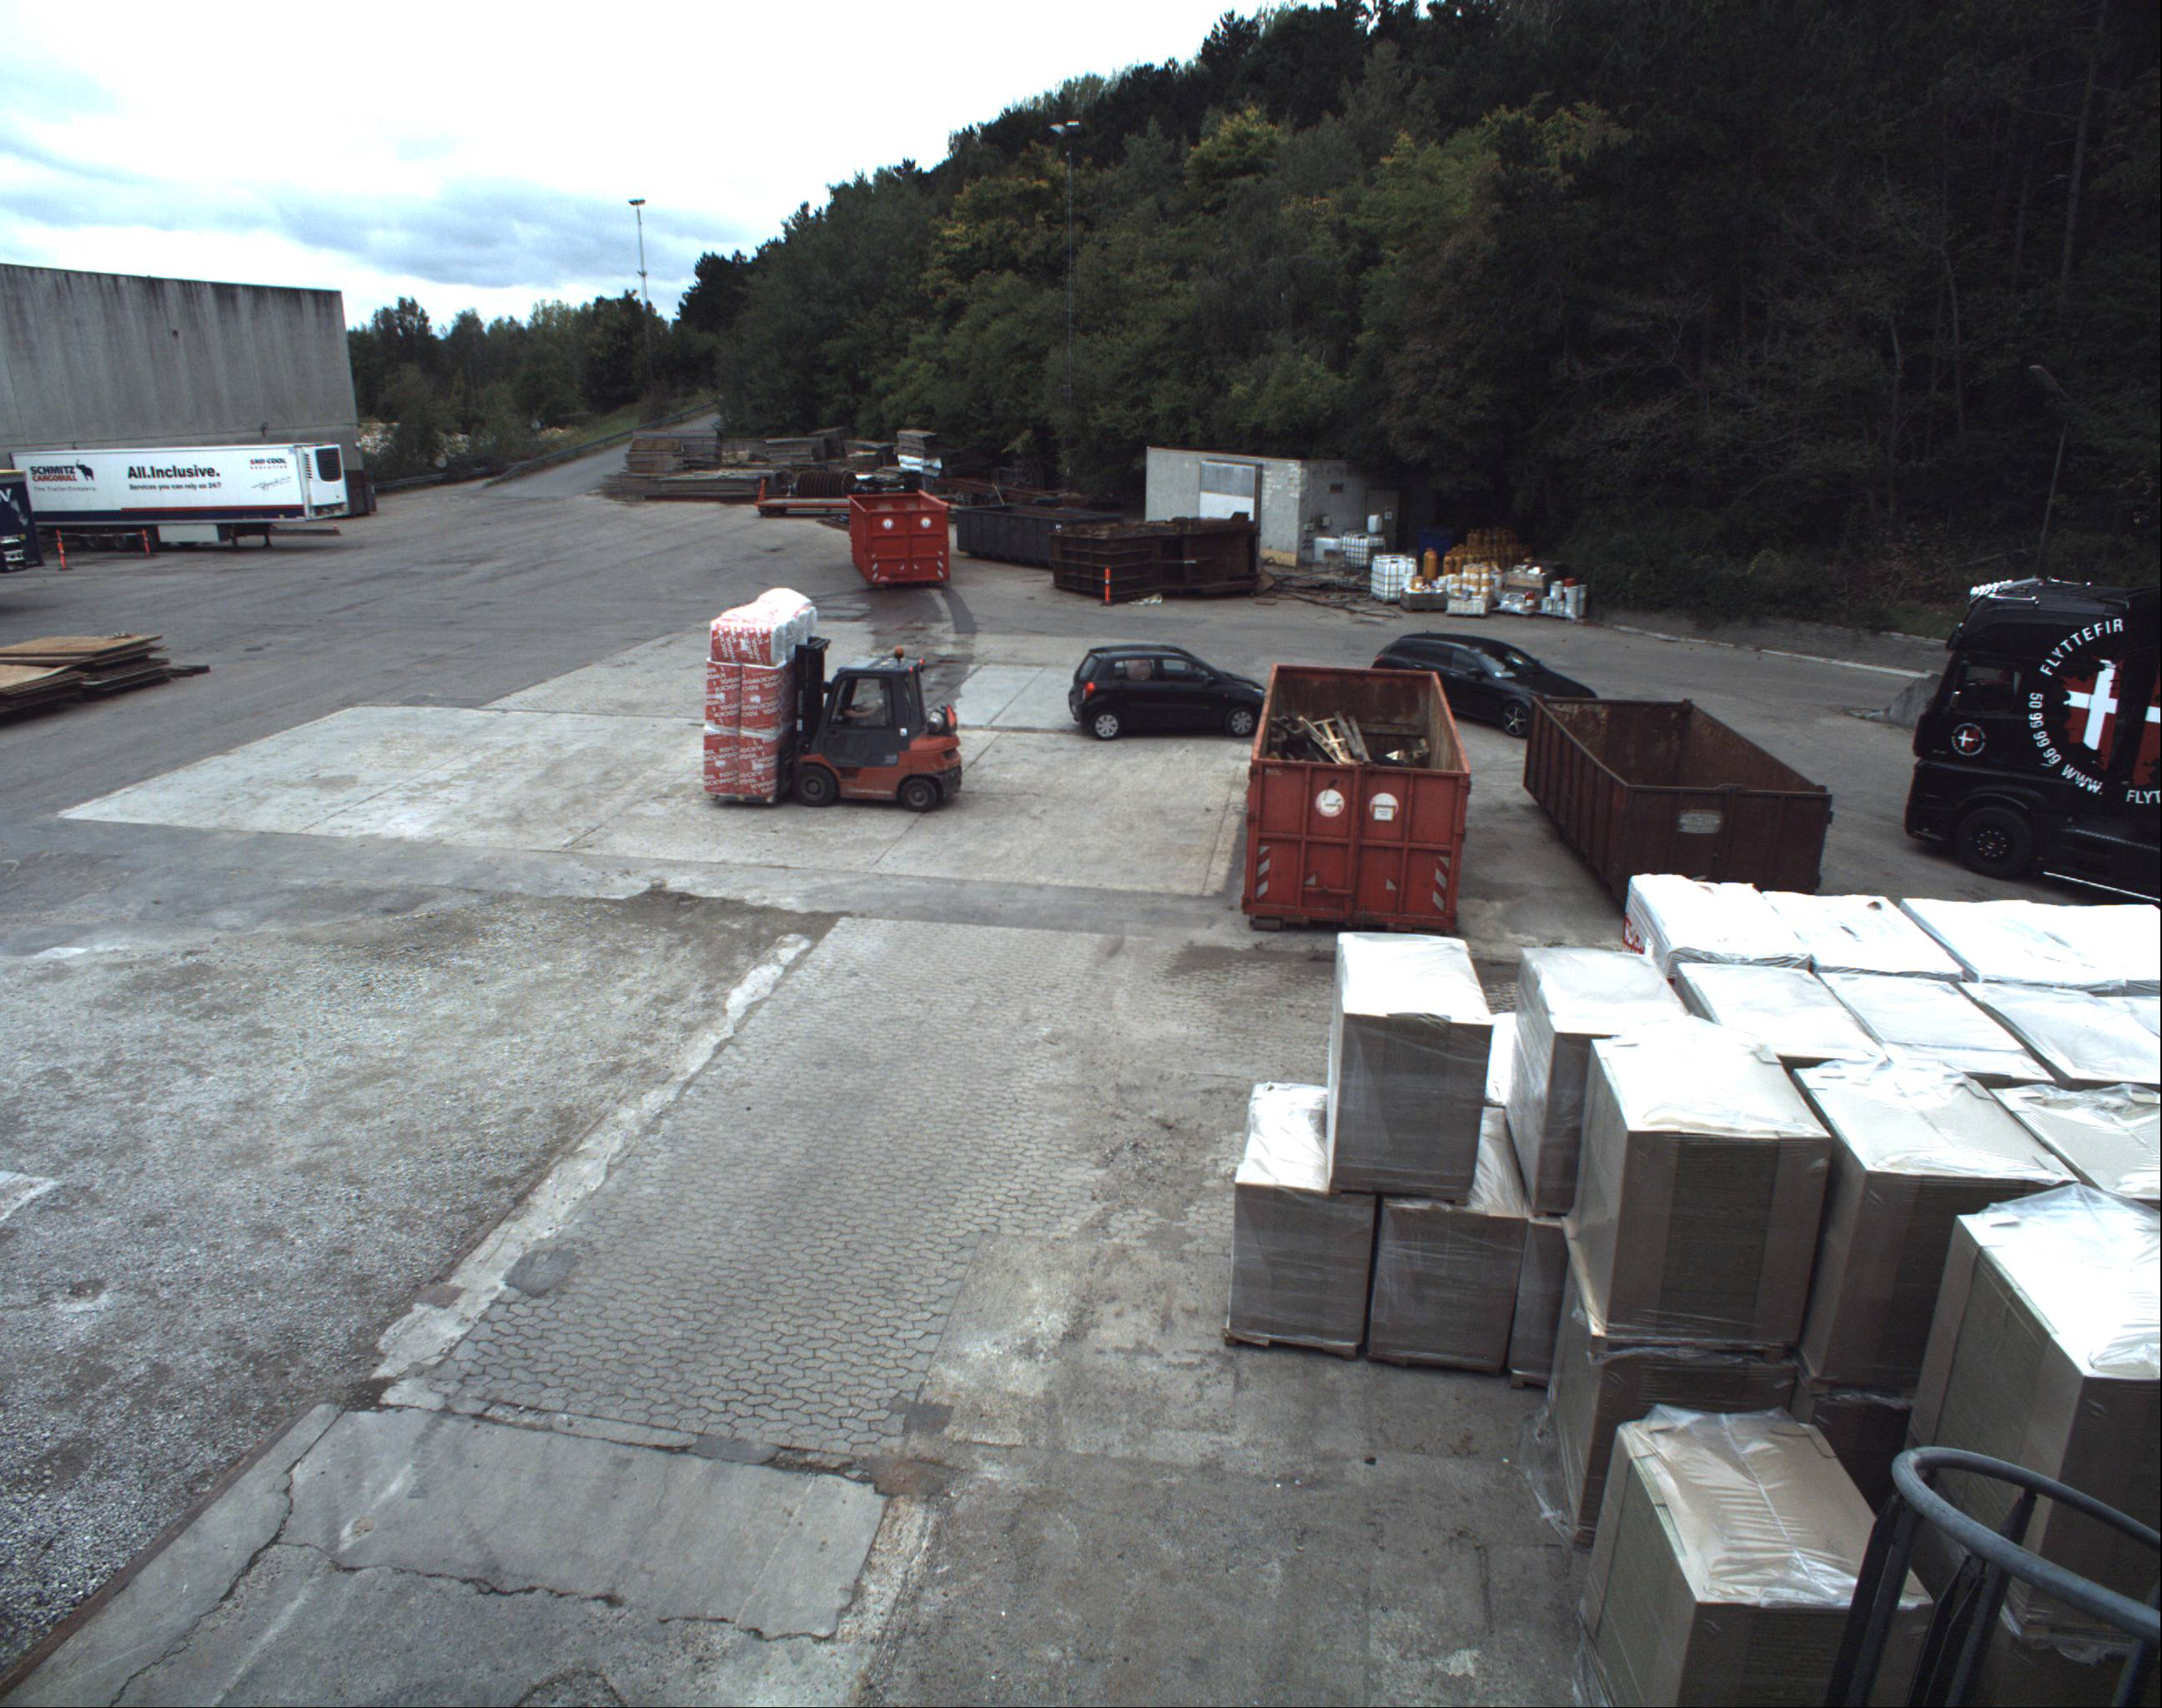rockwool_batts: (690, 588, 804, 793)
